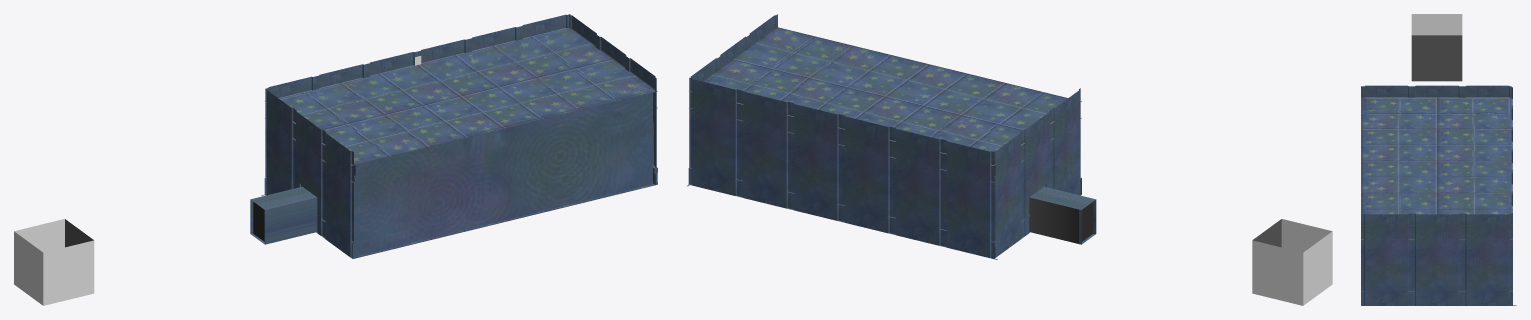
Rendered from las_18.dae.
3 renders of one model, left to right at view 1: azimuth 30°, elevation 25°; view 2: azimuth 150°, elevation 25°; view 3: azimuth 270°, elevation 25°, orthographic. The views are drawn at different scales.
Visible parts, largest first — view 1: pCube4_q00011, pCube1_q00009, pCube1_q00214, polySurface204_q00000, pCube3_q00038, pCube3_q00037, pCube3_q00036, pCube3_q00005, pCube3_q00182, pCube1_q00215, pCube3_q00184, pCube3_q00185 (+5 smaller); view 2: pCube1_q00214, pCube1_q00009, pCube3_q00185, pCube3_q00182, pCube3_q00186, pCube3_q00183, pCube3_q00181, pCube3_q00184, polySurface204_q00000, pCube3_q00038, pCube3_q00036, pCube3_q00037 (+4 smaller); view 3: pCube1_q00214, pCube1_q00009, pCube3_q00208, pCube3_q00209, pCube3_q00207, e_bero_1, polySurface204_q00000, pCube3_q00038, pCube3_q00037, pCube3_q00036.
Boxes of the visible parts, x1=… form: pCube4_q00011: x1=354, y1=93, x2=652, y2=256; pCube1_q00009: x1=280, y1=29, x2=649, y2=159; pCube1_q00214: x1=265, y1=28, x2=657, y2=165; polySurface204_q00000: x1=14, y1=219, x2=94, y2=305; pCube3_q00038: x1=250, y1=109, x2=324, y2=244; pCube3_q00037: x1=324, y1=131, x2=353, y2=257; pCube3_q00036: x1=266, y1=89, x2=294, y2=195; pCube3_q00005: x1=250, y1=187, x2=316, y2=243; pCube3_q00182: x1=261, y1=76, x2=315, y2=195; pCube1_q00215: x1=351, y1=183, x2=655, y2=258; pCube3_q00184: x1=468, y1=26, x2=519, y2=52; pCube3_q00185: x1=519, y1=14, x2=570, y2=39; pCube1_q00214: x1=689, y1=27, x2=1081, y2=165; pCube1_q00009: x1=706, y1=29, x2=1063, y2=146; pCube3_q00185: x1=689, y1=77, x2=741, y2=197; pCube3_q00182: x1=943, y1=140, x2=997, y2=259; pCube3_q00186: x1=893, y1=127, x2=946, y2=247; pCube3_q00183: x1=791, y1=102, x2=841, y2=221; pCube3_q00181: x1=842, y1=115, x2=892, y2=233; pCube3_q00184: x1=740, y1=90, x2=790, y2=208; polySurface204_q00000: x1=1252, y1=219, x2=1332, y2=305; pCube3_q00038: x1=1022, y1=110, x2=1096, y2=244; pCube3_q00036: x1=993, y1=131, x2=1024, y2=257; pCube3_q00037: x1=1051, y1=88, x2=1080, y2=195; pCube1_q00214: x1=1361, y1=97, x2=1512, y2=225; pCube1_q00009: x1=1364, y1=98, x2=1509, y2=214; pCube3_q00208: x1=1411, y1=213, x2=1462, y2=305; pCube3_q00209: x1=1361, y1=213, x2=1411, y2=305; pCube3_q00207: x1=1462, y1=213, x2=1516, y2=305; e_bero_1: x1=1411, y1=35, x2=1462, y2=81; polySurface204_q00000: x1=1411, y1=14, x2=1462, y2=35; pCube3_q00038: x1=1411, y1=85, x2=1462, y2=97; pCube3_q00037: x1=1361, y1=85, x2=1411, y2=97; pCube3_q00036: x1=1462, y1=85, x2=1511, y2=97.
Bounding box in the file's own units: 115 × 20 × 30.75.
